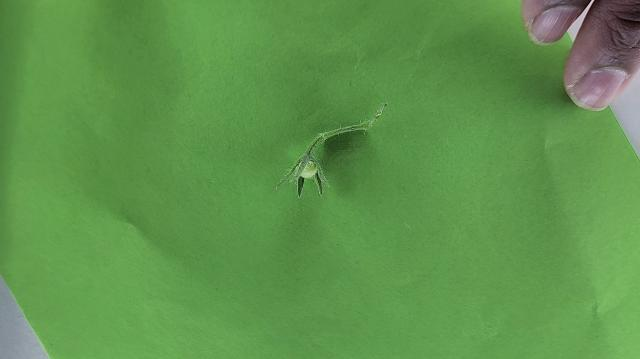Fruit Bud: (280, 146, 332, 200)
